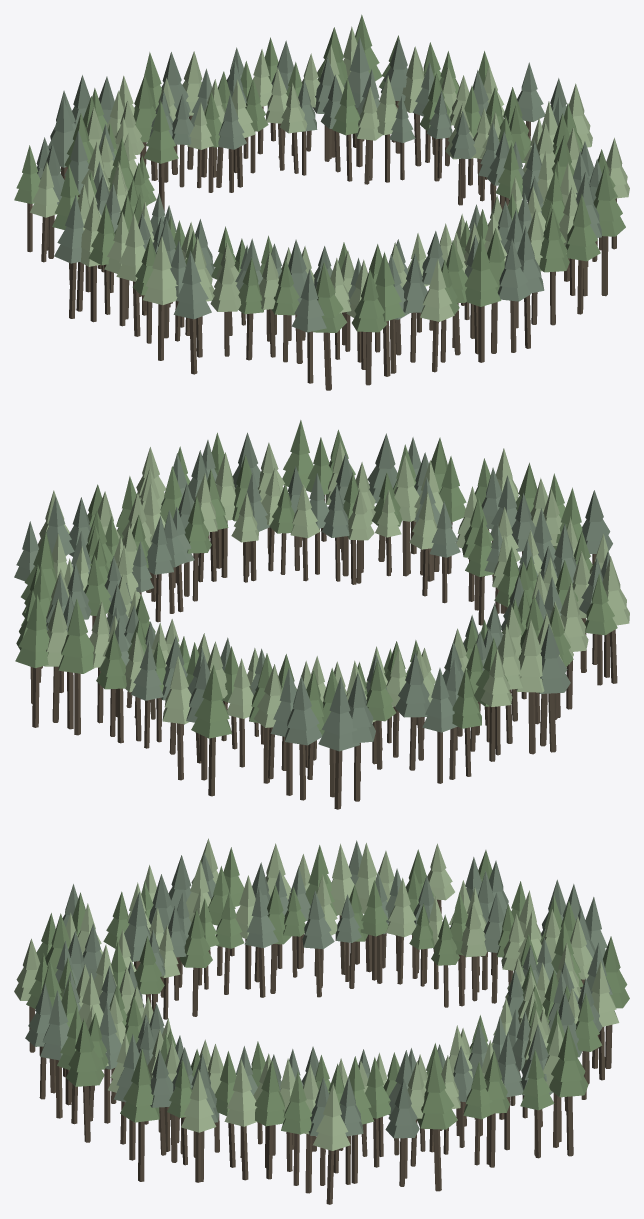
Rendered from trees.fbx.
3 views of the same model, one above another, from view 1: azimuth 30°, elevation 25°; view 2: azimuth 150°, elevation 25°; view 3: azimuth 270°, elevation 25° (orthographic). The views are drawn at different scales.
Visible parts, largest first — view 1: Cone_1_102, Cone_1_84; view 2: Cone_1_18, Cone_1_201, Cone_1_188, Cone_201, Cone_18, Cone_1_21, Cone_1_191, Cone_188; view 3: Cone_1_21, Cone_1_39, Cone_21, Cone_39, Cone_75, Cone_1_84, Cone_1_75, Cone_84.
Boxes of the visible parts, <box> form: Cone_1_102: <box>464,269,498,291</box>; Cone_1_84: <box>567,225,597,246</box>; Cone_1_18: <box>61,633,93,657</box>; Cone_1_201: <box>194,698,229,722</box>; Cone_1_188: <box>321,711,357,735</box>; Cone_201: <box>191,717,231,738</box>; Cone_18: <box>58,653,94,673</box>; Cone_1_21: <box>18,628,49,652</box>; Cone_1_191: <box>287,707,319,730</box>; Cone_188: <box>318,731,359,751</box>; Cone_1_21: <box>551,1058,585,1081</box>; Cone_1_39: <box>421,1089,454,1113</box>; Cone_21: <box>549,1076,588,1097</box>; Cone_39: <box>417,1108,457,1129</box>; Cone_75: <box>120,1101,159,1122</box>; Cone_1_84: <box>68,1049,101,1072</box>; Cone_1_75: <box>123,1082,153,1106</box>; Cone_84: <box>66,1066,104,1086</box>.
Bounding box in the file's own units: 4715 × 1174 × 4703.
